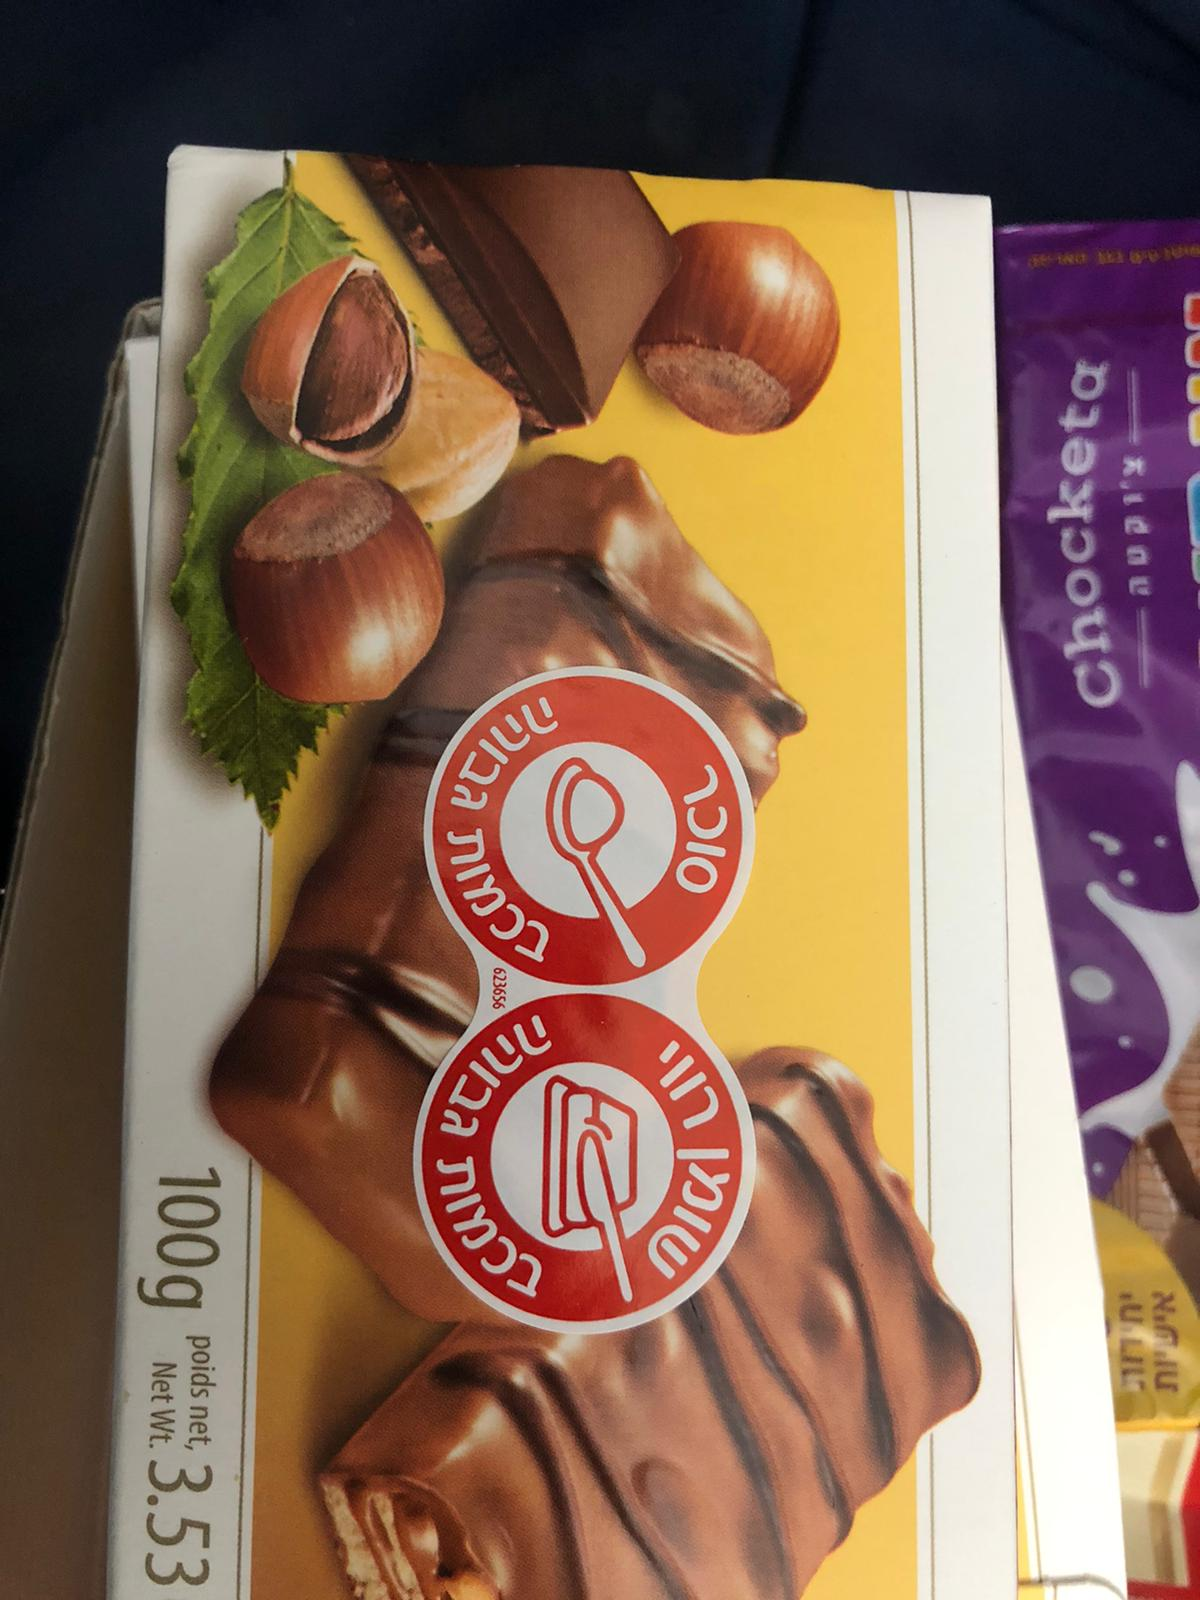fat: (412, 991, 763, 1338)
sugar: (424, 663, 756, 991)
